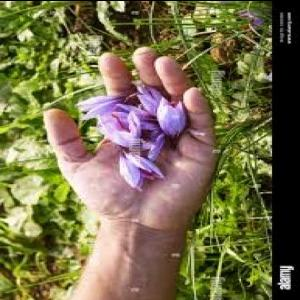Saffron: (114, 144, 164, 191), (73, 87, 124, 121), (157, 98, 188, 149)
